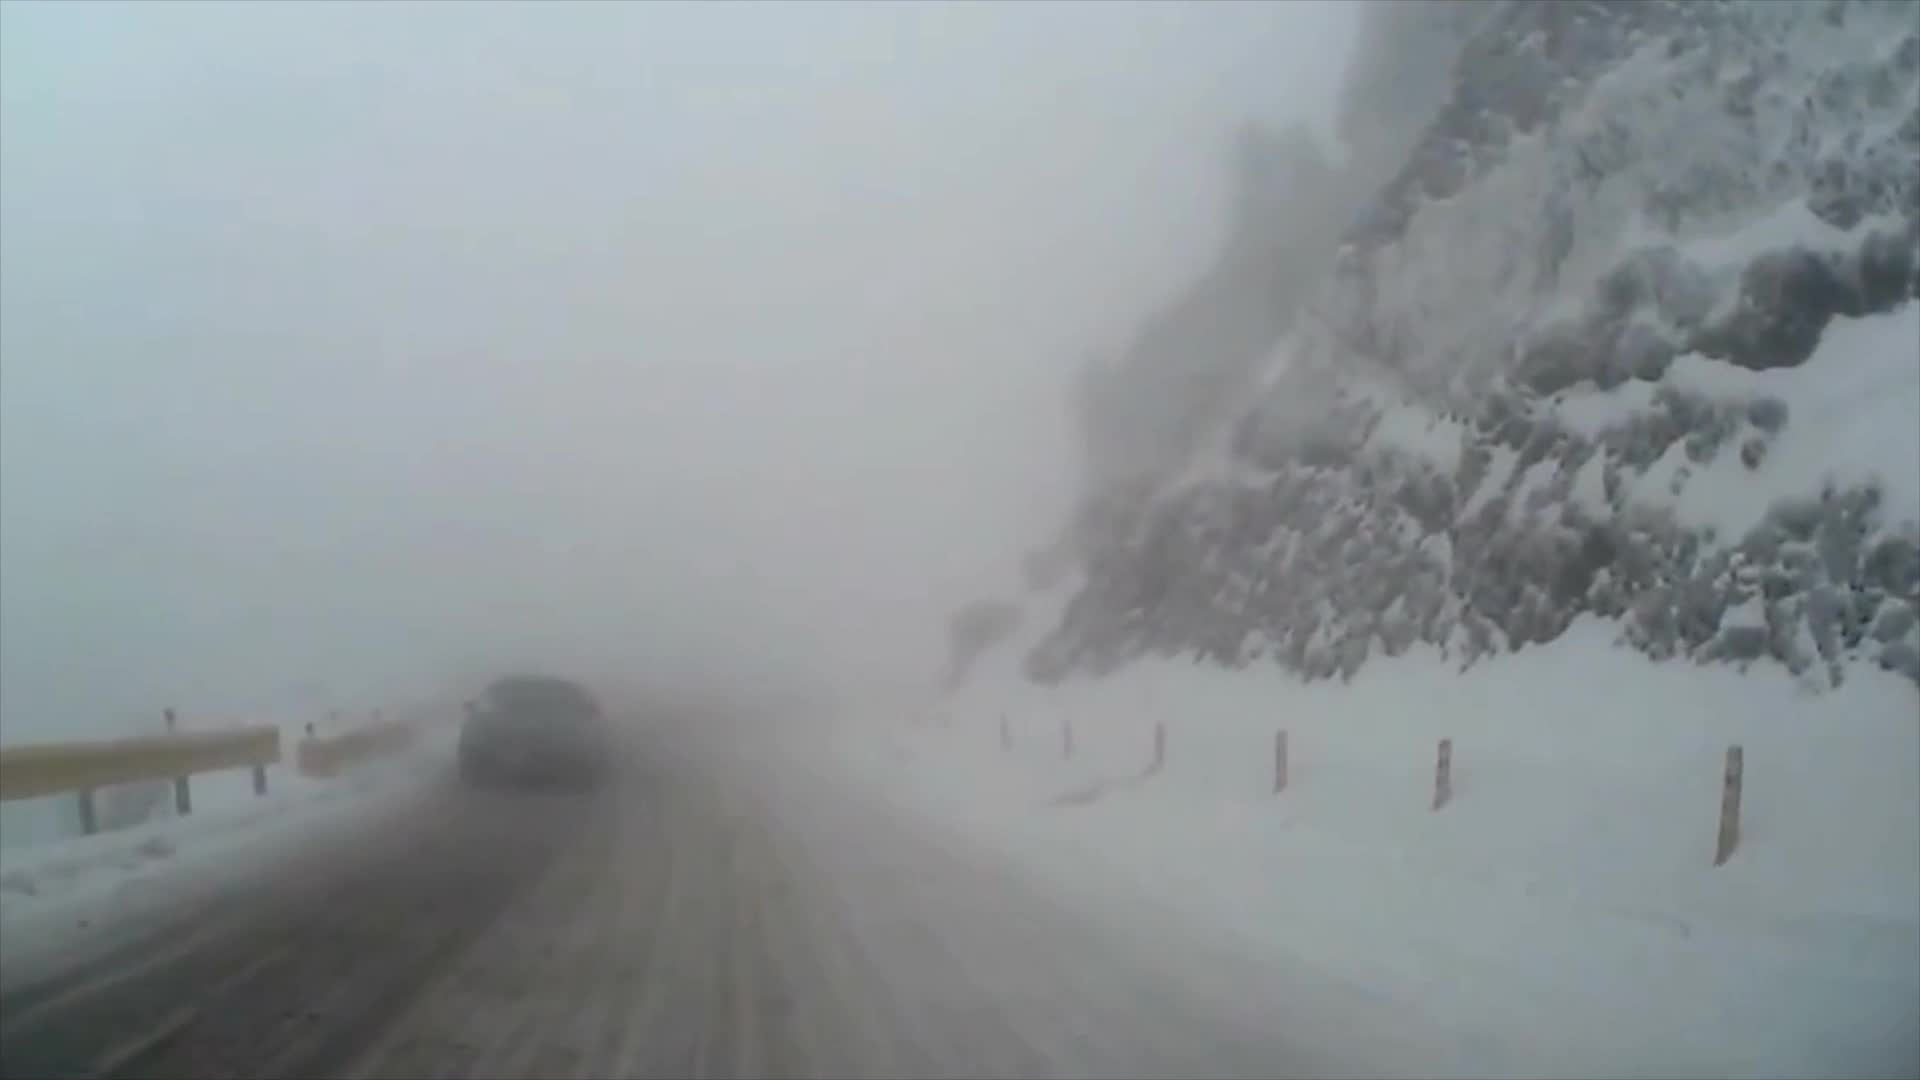vehicle: (455, 673, 611, 782)
